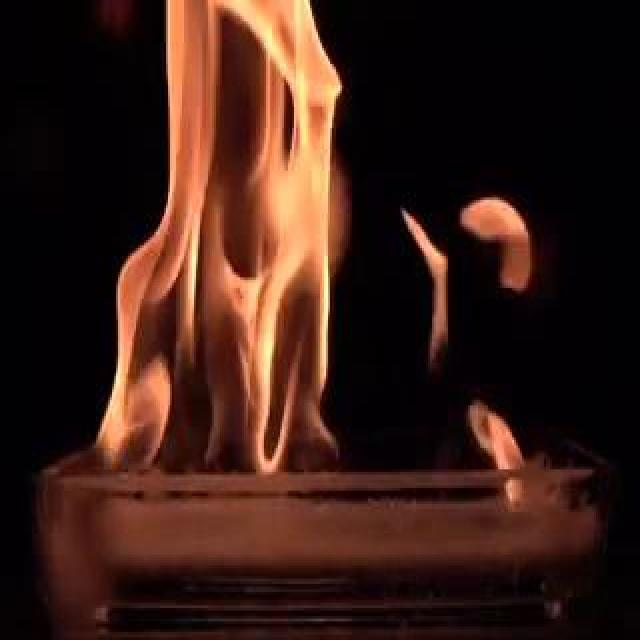Fire: (177, 2, 515, 474)
